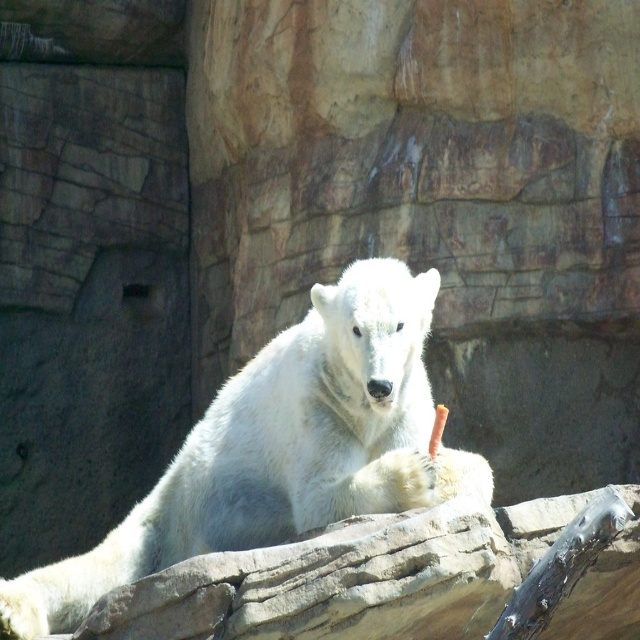Polar bear: (0, 254, 495, 639)
